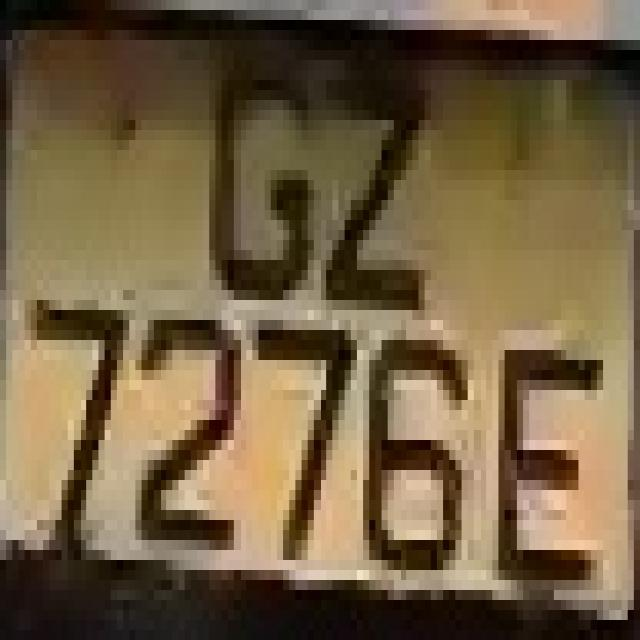2: (117, 260, 246, 580)
6: (357, 320, 474, 590)
7: (0, 250, 135, 560), (240, 290, 351, 580)
E: (486, 320, 609, 600)
G: (191, 40, 320, 330)
Z: (314, 40, 443, 330)
